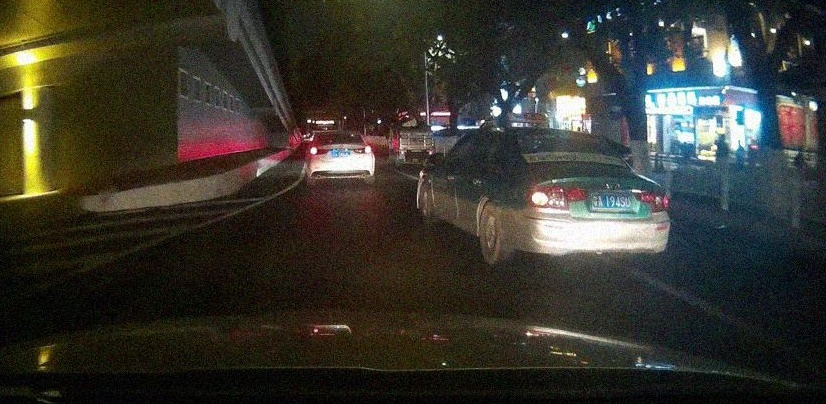L_light: (526, 186, 569, 210), (310, 147, 329, 155)
R_light: (634, 190, 670, 212), (353, 146, 371, 153)
T_light: (564, 134, 578, 140), (338, 134, 345, 136)
night-left: (501, 127, 671, 275)
night-no: (308, 131, 375, 185)
